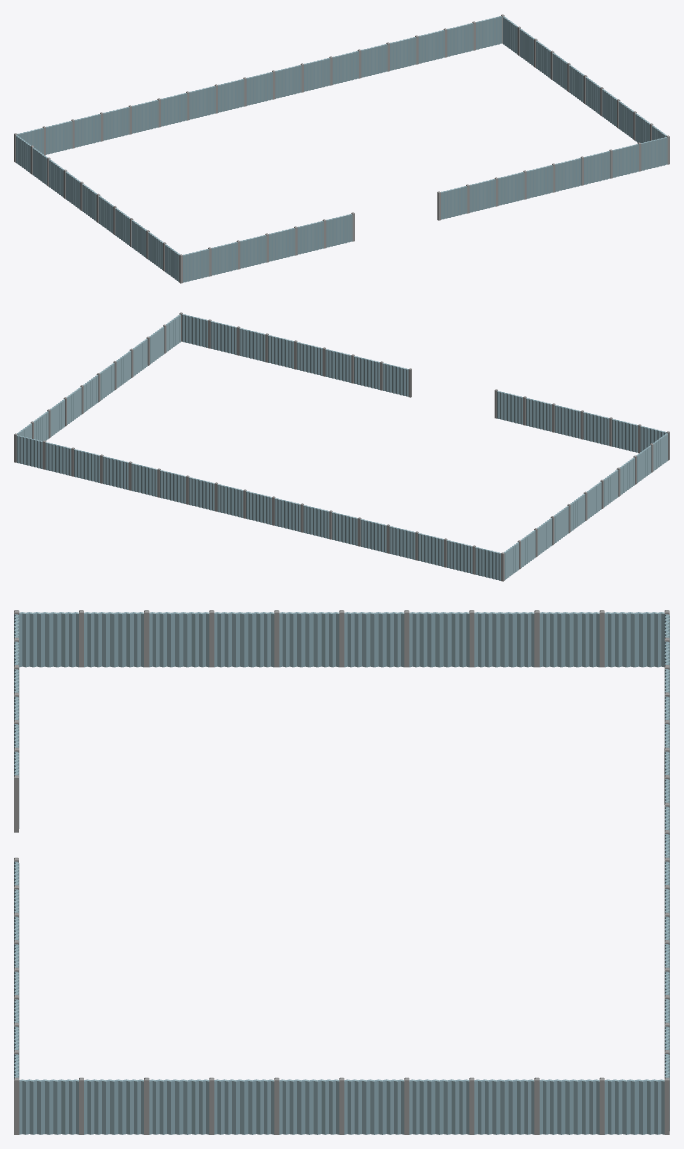
The model's file is junkyard.fbx.
3 views of the same model, one above another, from view 1: azimuth 30°, elevation 25°; view 2: azimuth 150°, elevation 25°; view 3: azimuth 270°, elevation 25° (orthographic). The views are drawn at different scales.
Visible parts, largest first — view 1: Cube.013, Cube.012, Cube.045, Cube.005, Cube.008, Cube.040, Cube.048, Cube.090, Cube.016, Cube.017, Cube.032, Cube.019 (+36 smaller); view 2: Cube.019, Cube.034, Cube.040, Cube.048, Cube.008, Cube.090, Cube.096, Cube.012, Cube.023, Cube.037, Cube.044, Cube.089 (+36 smaller); view 3: Cube.069, Cube.101, Cube.075, Cube.079, Cube.025, Cube.078, Cube.030, Cube.083, Cube.054, Cube.058, Cube.059, Cube.062 (+8 smaller).
Part boxes in pixels (x1,y1,x2,y2): Cube.013: [526, 165, 553, 198]; Cube.012: [498, 172, 524, 205]; Cube.045: [418, 30, 444, 63]; Cube.005: [612, 144, 638, 177]; Cube.008: [584, 151, 610, 184]; Cube.040: [361, 44, 387, 77]; Cube.048: [447, 23, 473, 56]; Cube.090: [240, 235, 266, 268]; Cube.016: [555, 158, 581, 191]; Cube.017: [326, 214, 352, 247]; Cube.032: [441, 186, 467, 219]; Cube.019: [275, 65, 301, 98]; Cube.019: [217, 484, 243, 517]; Cube.034: [303, 505, 329, 538]; Cube.040: [131, 463, 157, 496]; Cube.048: [45, 442, 71, 475]; Cube.008: [239, 328, 265, 361]; Cube.090: [583, 412, 609, 445]; Cube.096: [389, 526, 415, 559]; Cube.012: [325, 349, 351, 382]; Cube.023: [274, 498, 300, 531]; Cube.037: [102, 456, 128, 489]; Cube.044: [188, 477, 214, 510]; Cube.089: [554, 405, 580, 438]; Cube.069: [149, 1079, 209, 1134]; Cube.101: [474, 1079, 534, 1134]; Cube.075: [214, 1079, 274, 1134]; Cube.079: [344, 1079, 404, 1134]; Cube.025: [604, 1079, 664, 1134]; Cube.078: [279, 1079, 339, 1134]; Cube.030: [539, 1079, 599, 1134]; Cube.083: [409, 1079, 469, 1134]; Cube.054: [409, 612, 469, 667]; Cube.058: [344, 612, 404, 667]; Cube.059: [279, 612, 339, 667]; Cube.062: [214, 612, 274, 667].
Size of the model in its own units: 6856 by 379 by 4046.
